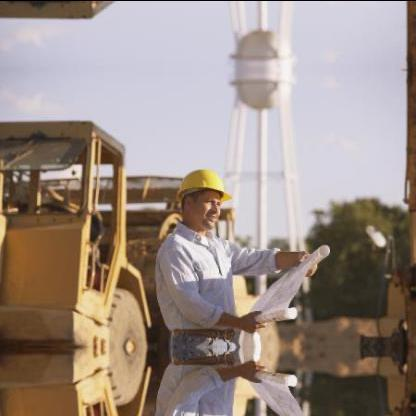Helmet: (168, 156, 230, 234)
